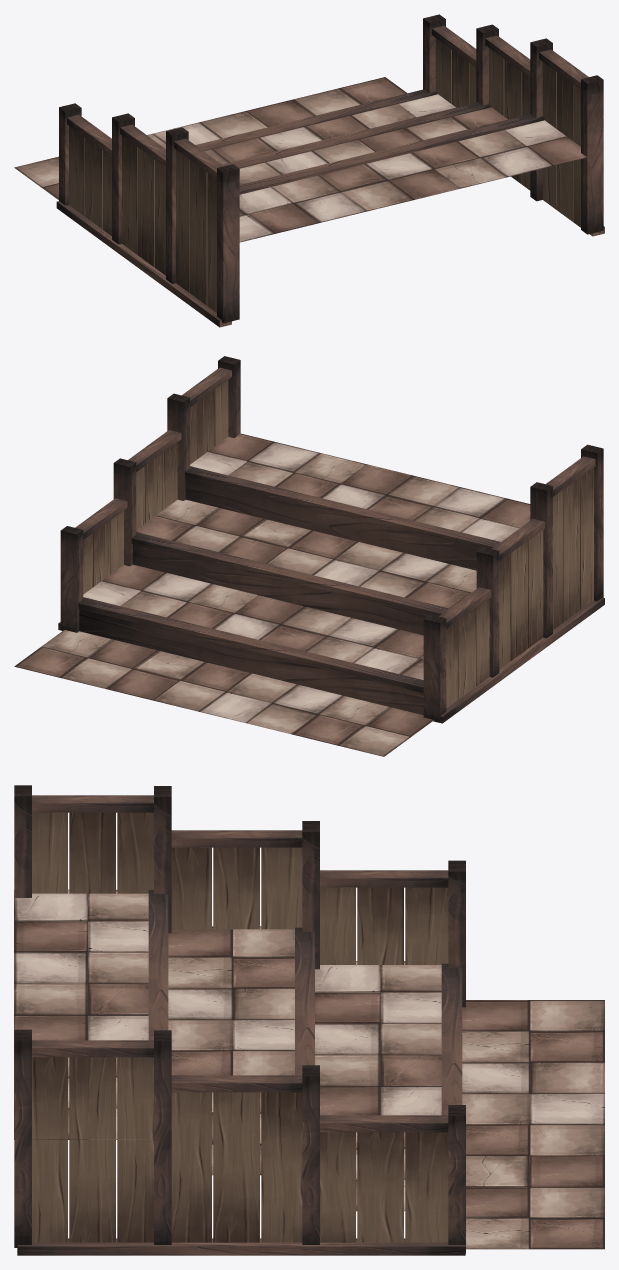
The model's file is Straight3_wall_end.fbx.
3 views of the same model, one above another, from view 1: azimuth 30°, elevation 25°; view 2: azimuth 150°, elevation 25°; view 3: azimuth 270°, elevation 25° (orthographic). The views are drawn at different scales.
Visible parts, largest first — view 1: Straight3_end; view 2: Straight3_end; view 3: Straight3_end.
Part boxes in pixels (x1,y1,x2,y2): Straight3_end: (14, 14, 604, 327); Straight3_end: (14, 356, 604, 756); Straight3_end: (14, 785, 604, 1255).
Bounding box in the file's own units: 0.6238 × 0.24 × 0.6027.
